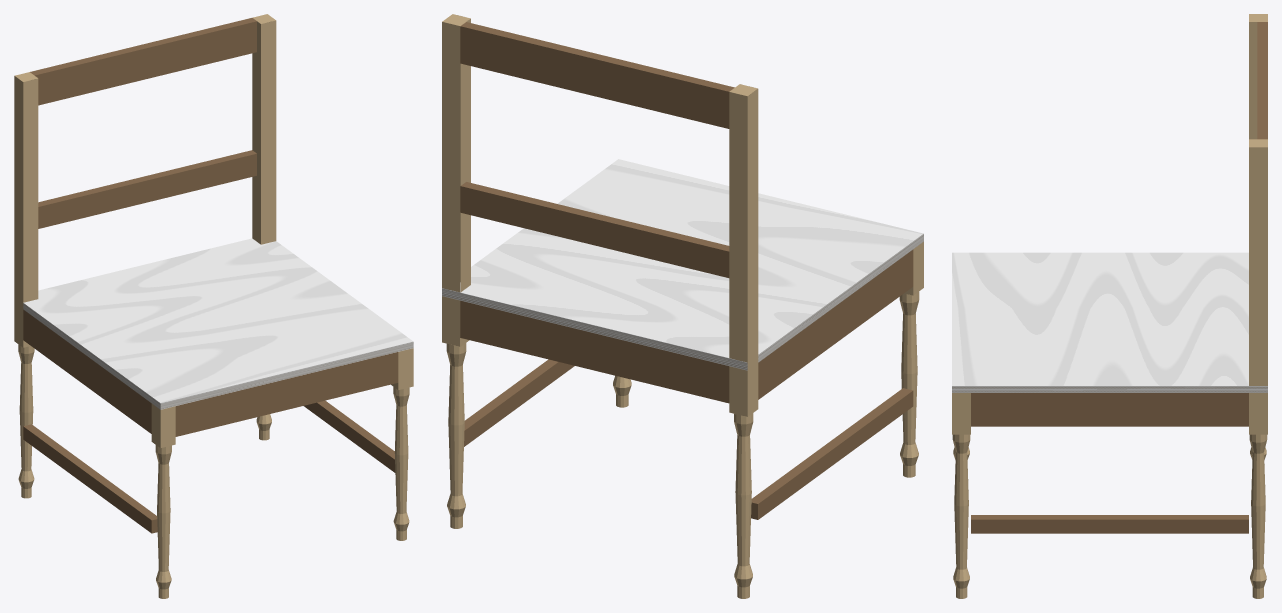
The model's file is BIB-DKC-std.glb.
The picture shows the model from 3 angles, left to right: view 1: azimuth 30°, elevation 25°; view 2: azimuth 150°, elevation 25°; view 3: azimuth 270°, elevation 25°; orthographic projection. The views are drawn at different scales.
Visible parts, largest first — view 1: seat:sheet:eyJtIjoicGx5Iiwic2lkZSI6ImZhY2UiLCJzZWVkIjo2LCJ2Z, back-top:pbr, leg-bl:pbr, rail-f:pbr, back-mid:pbr, leg-br:pbr, rail-l:pbr, stretcher-l:pbr, leg-fl:pbr, leg-fr:pbr, seat:sheet:eyJtIjoicGx5Iiwic2lkZSI6ImVkZ2UtbG9uZyIsInNlZWQiO, stretcher-r:pbr (+1 smaller); view 2: seat:sheet:eyJtIjoicGx5Iiwic2lkZSI6ImZhY2UiLCJzZWVkIjo2LCJ2Z, leg-bl:pbr, back-top:pbr, leg-br:pbr, rail-b:pbr, back-mid:pbr, rail-l:pbr, stretcher-l:pbr, leg-fl:pbr, seat:sheet:eyJtIjoicGx5Iiwic2lkZSI6ImVkZ2UtbG9uZyIsInNlZWQiO, stretcher-r:pbr, seat:sheet:eyJtIjoicGx5Iiwic2lkZSI6ImVkZ2UtZW5kIiwic2VlZCI6N; view 3: seat:sheet:eyJtIjoicGx5Iiwic2lkZSI6ImZhY2UiLCJzZWVkIjo2LCJ2Z, rail-r:pbr, leg-br:pbr, stretcher-r:pbr, leg-fr:pbr, seat:sheet:eyJtIjoicGx5Iiwic2lkZSI6ImVkZ2UtZW5kIiwic2VlZCI6N, back-top:pbr, leg-bl:pbr.
Boxes of the visible parts, <box> form: seat:sheet:eyJtIjoicGx5Iiwic2lkZSI6ImZhY2UiLCJzZWVkIjo2LCJ2Z: <box>23,238,412,403</box>; back-top:pbr: <box>30,18,256,105</box>; leg-bl:pbr: <box>14,72,38,498</box>; rail-f:pbr: <box>175,352,398,436</box>; back-mid:pbr: <box>38,150,256,228</box>; leg-br:pbr: <box>252,14,276,440</box>; rail-l:pbr: <box>23,309,151,433</box>; stretcher-l:pbr: <box>23,424,157,533</box>; leg-fl:pbr: <box>151,403,175,598</box>; leg-fr:pbr: <box>391,348,413,540</box>; seat:sheet:eyJtIjoicGx5Iiwic2lkZSI6ImVkZ2UtbG9uZyIsInNlZWQiO: <box>160,341,413,409</box>; stretcher-r:pbr: <box>304,400,395,472</box>; seat:sheet:eyJtIjoicGx5Iiwic2lkZSI6ImZhY2UiLCJzZWVkIjo2LCJ2Z: <box>460,159,923,357</box>; leg-bl:pbr: <box>729,84,758,598</box>; back-top:pbr: <box>460,22,734,128</box>; leg-br:pbr: <box>442,14,470,528</box>; rail-b:pbr: <box>460,300,729,403</box>; back-mid:pbr: <box>460,182,729,277</box>; rail-l:pbr: <box>758,249,913,399</box>; stretcher-l:pbr: <box>751,388,913,519</box>; leg-fl:pbr: <box>899,242,923,477</box>; seat:sheet:eyJtIjoicGx5Iiwic2lkZSI6ImVkZ2UtbG9uZyIsInNlZWQiO: <box>442,288,747,370</box>; stretcher-r:pbr: <box>464,359,574,446</box>; seat:sheet:eyJtIjoicGx5Iiwic2lkZSI6ImVkZ2UtZW5kIiwic2VlZCI6N: <box>758,234,923,362</box>; seat:sheet:eyJtIjoicGx5Iiwic2lkZSI6ImZhY2UiLCJzZWVkIjo2LCJ2Z: <box>952,252,1248,385</box>; rail-r:pbr: <box>971,393,1248,426</box>; leg-br:pbr: <box>1249,139,1267,598</box>; stretcher-r:pbr: <box>971,515,1248,533</box>; leg-fr:pbr: <box>952,393,970,598</box>; seat:sheet:eyJtIjoicGx5Iiwic2lkZSI6ImVkZ2UtZW5kIiwic2VlZCI6N: <box>952,386,1267,392</box>; back-top:pbr: <box>1257,22,1267,139</box>; leg-bl:pbr: <box>1249,14,1267,459</box>.
Size of the model in its own units: 0.6002 by 0.95 by 0.6.
Materials: 15 (3 with a texture image).
